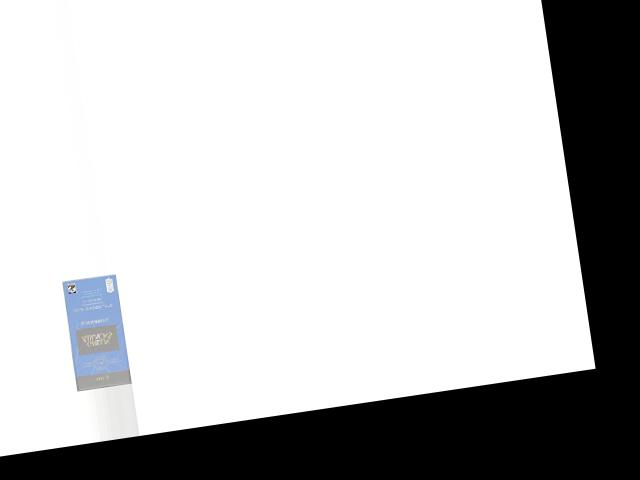chocolate: (61, 275, 133, 391)
